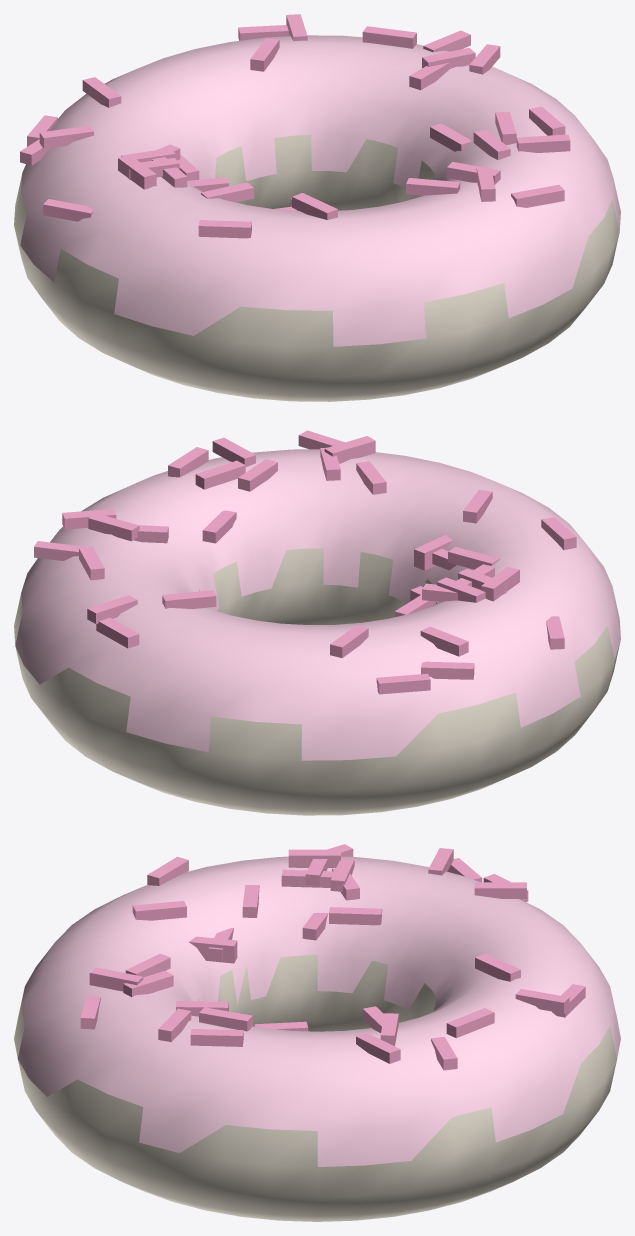
The model's file is BumperDonutFloat.glb.
The picture shows the model from 3 angles, top to bottom: view 1: azimuth 30°, elevation 25°; view 2: azimuth 150°, elevation 25°; view 3: azimuth 270°, elevation 25°; orthographic projection.
Visible parts, largest first — view 1: Frosting, Dough, Sprinkles; view 2: Frosting, Dough, Sprinkles; view 3: Frosting, Dough, Sprinkles.
Part boxes in pixels (x1,y1,x2,y2): Frosting: (20, 35, 620, 346); Dough: (14, 134, 619, 401); Sprinkles: (20, 14, 570, 238); Frosting: (15, 449, 620, 760); Dough: (14, 548, 620, 815); Sprinkles: (34, 430, 576, 694); Frosting: (17, 856, 620, 1166); Dough: (14, 955, 617, 1221); Sprinkles: (80, 844, 585, 1070).
Size of the model in its own units: 5.1 by 1.71 by 5.1.
